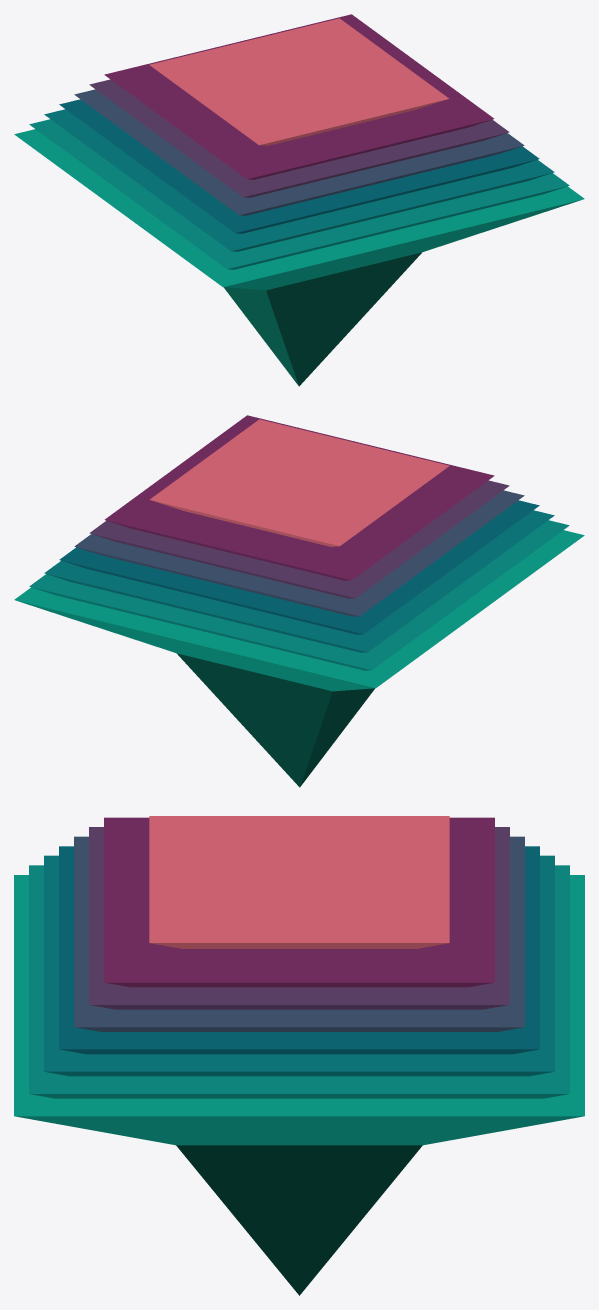
File: exokit.fbx
3 views of the same model, one above another, from view 1: azimuth 30°, elevation 25°; view 2: azimuth 150°, elevation 25°; view 3: azimuth 270°, elevation 25° (orthographic). The views are drawn at different scales.
Parts seen in each view (by area): view 1: Cube.009, Cube.008, Cube, Cube.002, Cube.003, Cube.004, Cube.005, Cube.006, Cube.007; view 2: Cube.009, Cube.008, Cube, Cube.002, Cube.003, Cube.004, Cube.005, Cube.006, Cube.007; view 3: Cube.009, Cube, Cube.008, Cube.002, Cube.003, Cube.004, Cube.005, Cube.006, Cube.007.
Part boxes in pixels (<box>): Cube.009: <box>149,18,449,145</box>; Cube.008: <box>104,14,494,179</box>; Cube: <box>14,129,584,290</box>; Cube.002: <box>224,252,421,386</box>; Cube.003: <box>29,119,569,269</box>; Cube.004: <box>44,109,554,251</box>; Cube.005: <box>59,99,539,233</box>; Cube.006: <box>74,89,524,215</box>; Cube.007: <box>89,79,509,197</box>; Cube.009: <box>149,419,449,546</box>; Cube.008: <box>104,415,494,580</box>; Cube: <box>14,530,584,691</box>; Cube.002: <box>177,653,374,787</box>; Cube.003: <box>29,520,569,670</box>; Cube.004: <box>44,510,554,652</box>; Cube.005: <box>59,500,539,634</box>; Cube.006: <box>74,490,524,616</box>; Cube.007: <box>89,480,509,598</box>; Cube.009: <box>149,816,449,948</box>; Cube: <box>14,875,584,1145</box>; Cube.008: <box>104,817,494,987</box>; Cube.002: <box>176,1145,422,1295</box>; Cube.003: <box>29,865,569,1098</box>; Cube.004: <box>44,855,554,1076</box>; Cube.005: <box>59,846,539,1054</box>; Cube.006: <box>74,836,524,1031</box>; Cube.007: <box>89,827,509,1009</box>.
Bounding box in the file's own units: 189 × 152 × 189.
